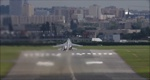maybay_muctieu: (53, 38, 83, 55)
